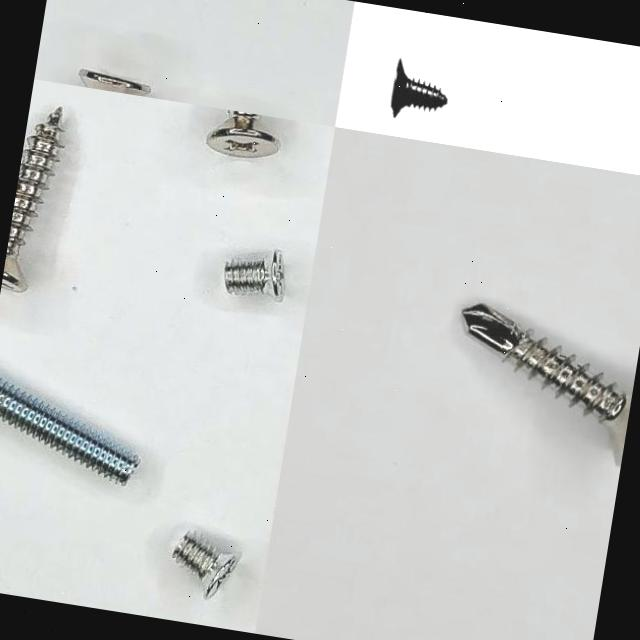Screw: (462, 303, 632, 466), (0, 380, 139, 485), (1, 107, 61, 292), (171, 533, 241, 600), (205, 110, 279, 156), (391, 57, 447, 116), (223, 250, 284, 301)
